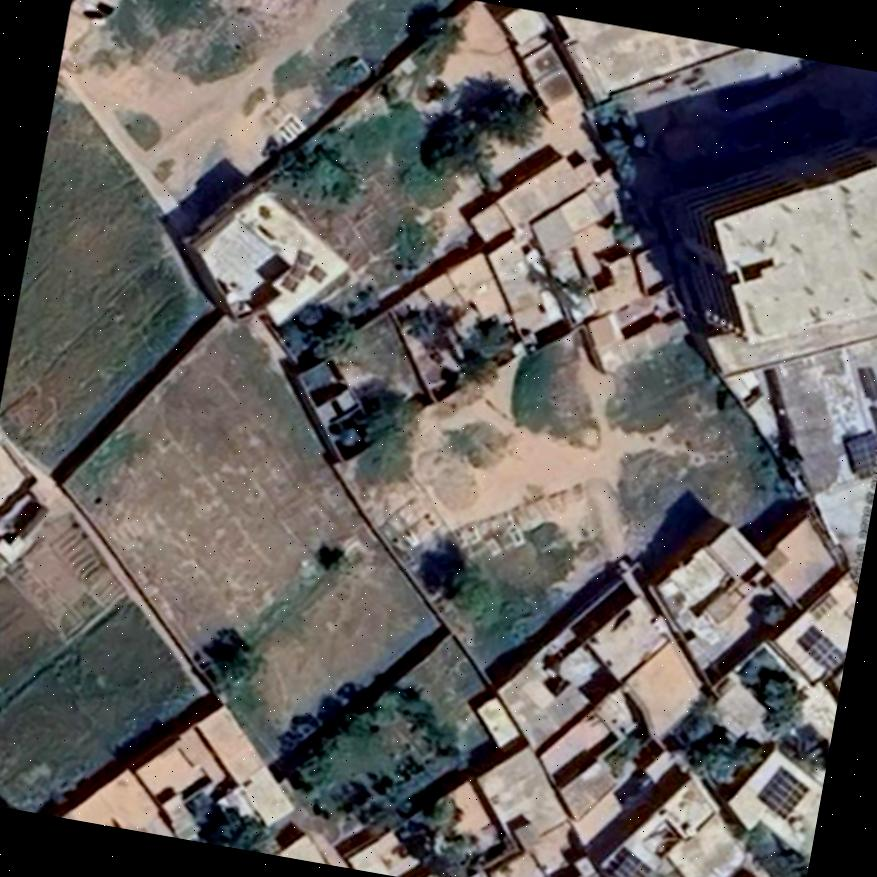Solarpanel: (762, 769, 808, 820), (844, 432, 877, 471), (807, 639, 840, 670), (613, 854, 653, 877)
